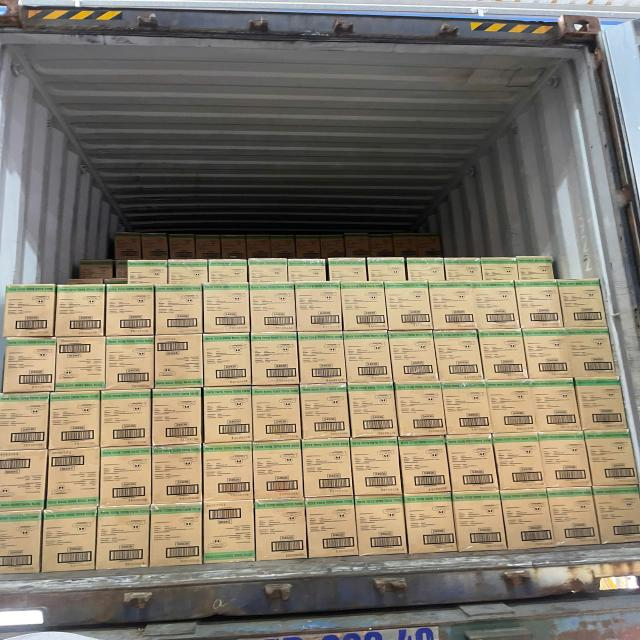Carton: (499, 488, 557, 551), (199, 442, 256, 502), (545, 487, 602, 547), (95, 511, 152, 570), (490, 432, 547, 490), (536, 430, 592, 489), (398, 436, 452, 497), (43, 511, 97, 572), (444, 432, 496, 494), (2, 284, 57, 342), (582, 431, 640, 486), (48, 451, 102, 510), (255, 501, 308, 560), (151, 509, 204, 568), (439, 380, 494, 436), (202, 498, 253, 557), (250, 385, 303, 441), (304, 438, 354, 497), (484, 380, 538, 434), (49, 397, 102, 452), (529, 379, 584, 432), (150, 451, 202, 507), (455, 495, 507, 551), (102, 395, 154, 450), (150, 393, 202, 448), (101, 454, 153, 509), (512, 278, 567, 330), (0, 508, 42, 576), (562, 328, 618, 379), (405, 496, 455, 553), (352, 437, 401, 495), (591, 486, 640, 544), (153, 282, 205, 336), (574, 378, 628, 430), (309, 501, 359, 557), (254, 444, 304, 500), (355, 498, 404, 555), (0, 450, 48, 508), (1, 342, 54, 394), (477, 329, 530, 381), (56, 284, 106, 339), (55, 338, 106, 391), (470, 279, 523, 330), (556, 278, 610, 328), (107, 284, 154, 341), (247, 282, 298, 334), (522, 328, 574, 379), (298, 331, 348, 384), (382, 280, 433, 331), (106, 340, 156, 392), (153, 334, 203, 386), (433, 330, 485, 380), (426, 280, 477, 329), (202, 282, 250, 334), (202, 336, 250, 388), (293, 282, 342, 332), (253, 336, 301, 387), (398, 388, 446, 439), (344, 333, 391, 385), (304, 392, 352, 442), (340, 281, 388, 331), (348, 388, 395, 439), (392, 334, 439, 384), (0, 402, 47, 451), (204, 392, 254, 423), (204, 422, 252, 443)
